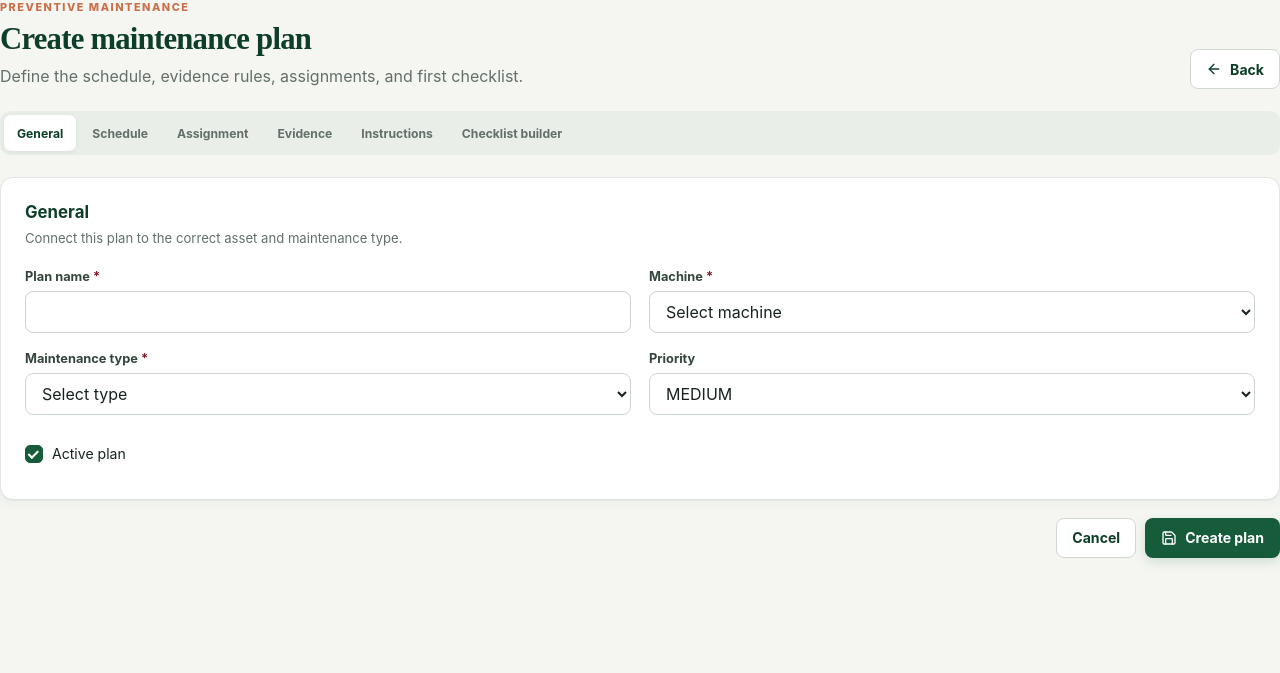
Test case: maintenance plans › adds and reorders checklist builder rows
This screenshot has width=1280, height=673.
Click the tab "Checklist builder" at coordinates (512, 133), box left=449, top=115, right=575, bottom=151
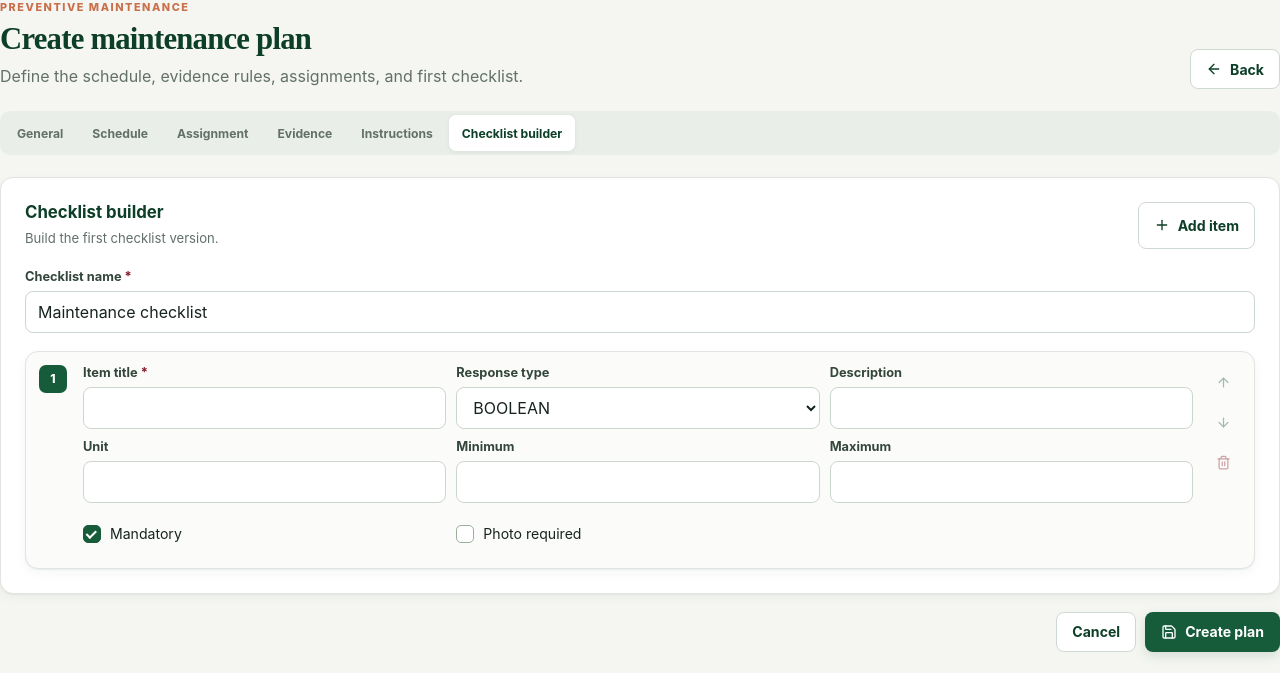
Result: the number of fields labelled "Item title *" is 1 at left=83, top=386, right=446, bottom=428
Click the button "Add item" at coordinates (1196, 225), box left=1138, top=202, right=1255, bottom=248
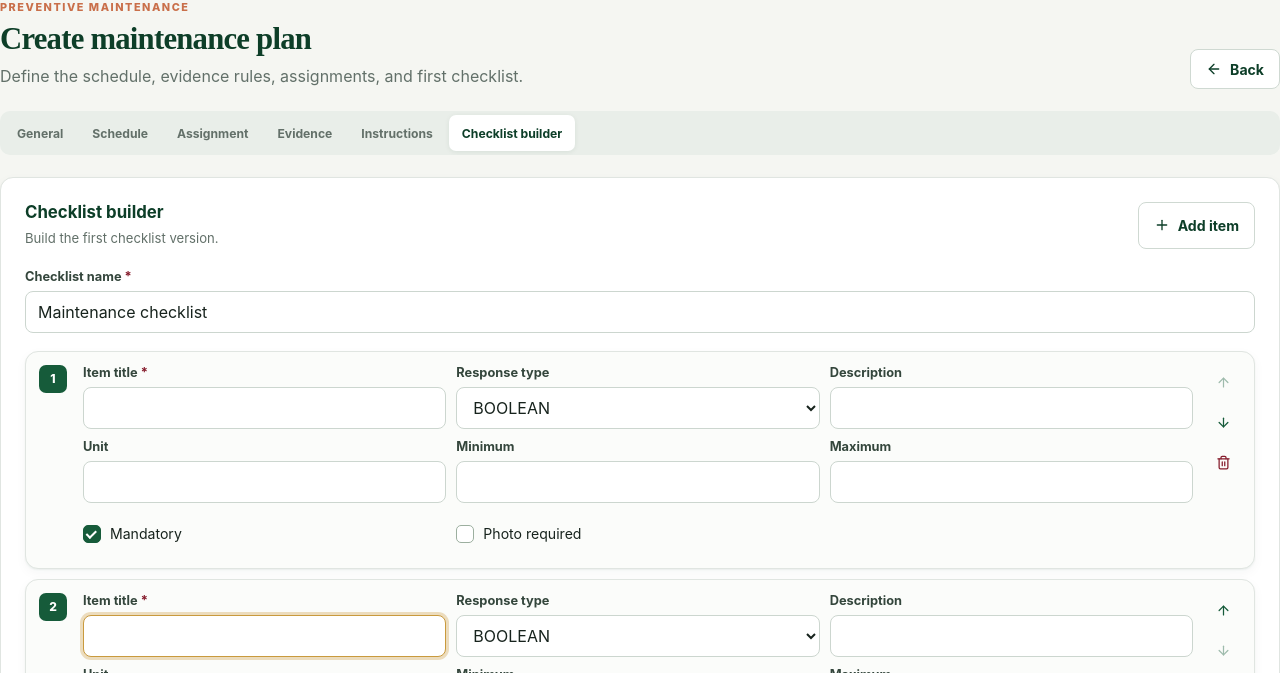
Result: the number of fields labelled "Item title *" is 2 at left=83, top=386, right=446, bottom=428; left=83, top=614, right=446, bottom=656
Result: the 2nd button named "Move item up" is enabled at left=1205, top=592, right=1241, bottom=628
